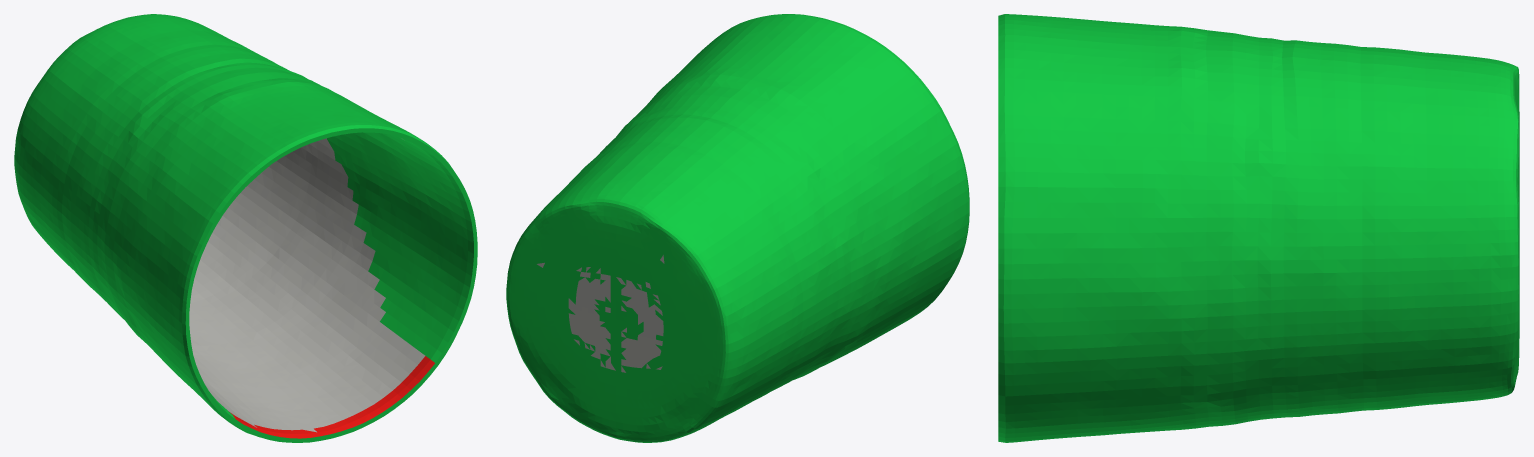
The model's file is cup.obj.
3 renders of one model, left to right at view 1: azimuth 30°, elevation 25°; view 2: azimuth 150°, elevation 25°; view 3: azimuth 270°, elevation 25°, orthographic. The views are drawn at different scales.
Size of the model in its own units: 0.064 by 0.064 by 0.078.
